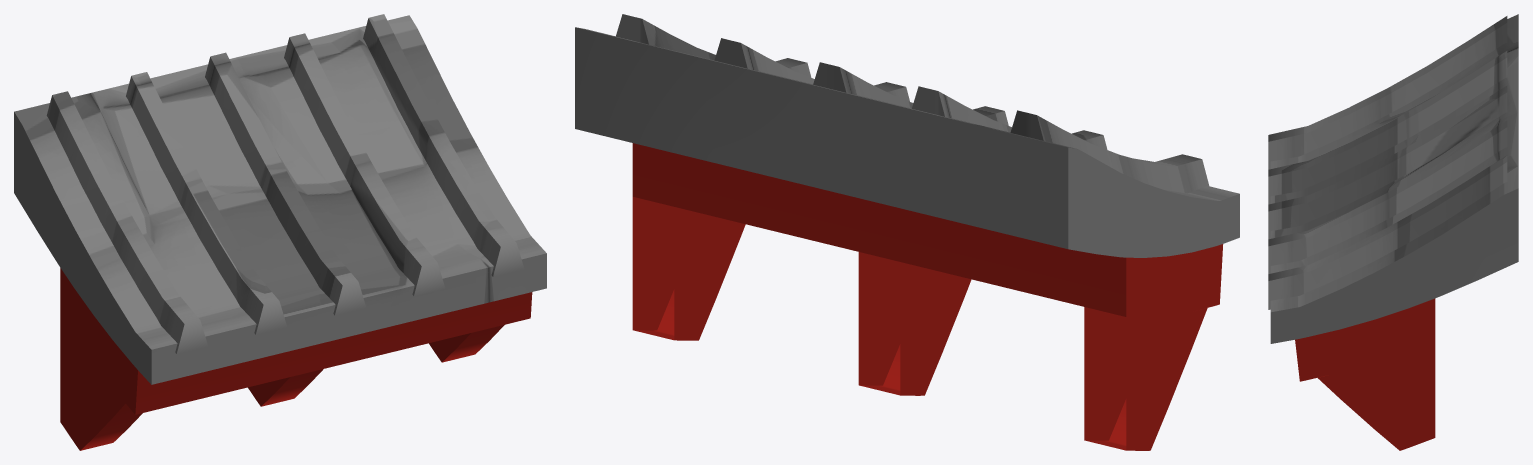
The model's file is SM_Bld_Kawara_Eave_Half_01.fbx.
3 views of the same model, side by side, from view 1: azimuth 30°, elevation 25°; view 2: azimuth 150°, elevation 25°; view 3: azimuth 270°, elevation 25° (orthographic). The views are drawn at different scales.
Visible parts, largest first — view 1: SM_Bld_Kawara_Eave_Half_01; view 2: SM_Bld_Kawara_Eave_Half_01; view 3: SM_Bld_Kawara_Eave_Half_01.
Boxes of the visible parts, box(x1,y1,x2,y2) form: SM_Bld_Kawara_Eave_Half_01: box(14, 14, 546, 450); SM_Bld_Kawara_Eave_Half_01: box(575, 14, 1239, 450); SM_Bld_Kawara_Eave_Half_01: box(1268, 14, 1518, 450).
Bounding box in the file's own units: 2.5 × 1.84 × 1.52.
